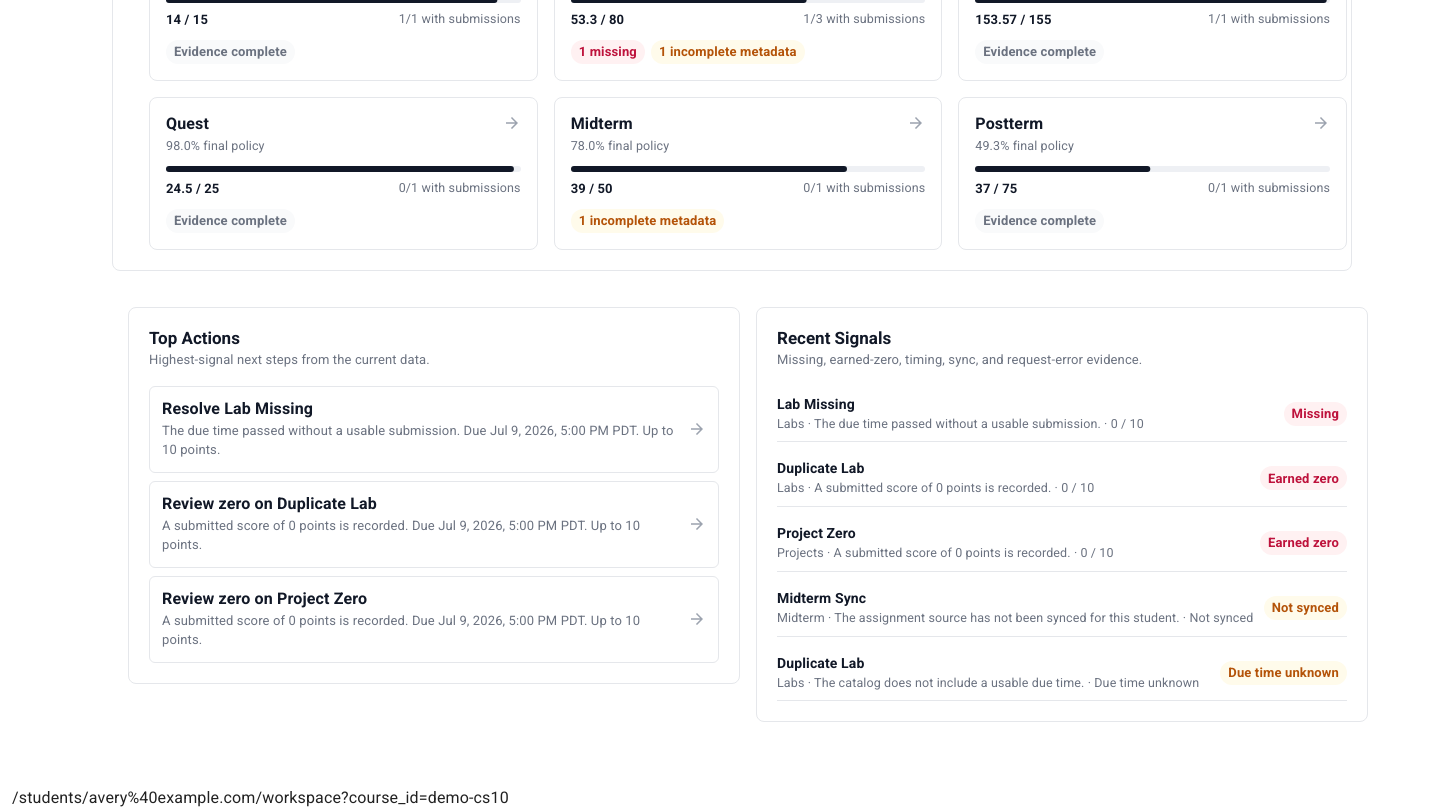
Test: student experience canonical contract surfaces › staff-view Workspace actions keep the reviewed student and course context
(page scrolled)
Click the link "Resolve Lab Missing" at (434, 429), box x1=149 y1=386 x2=719 y2=473
(page scrolled)
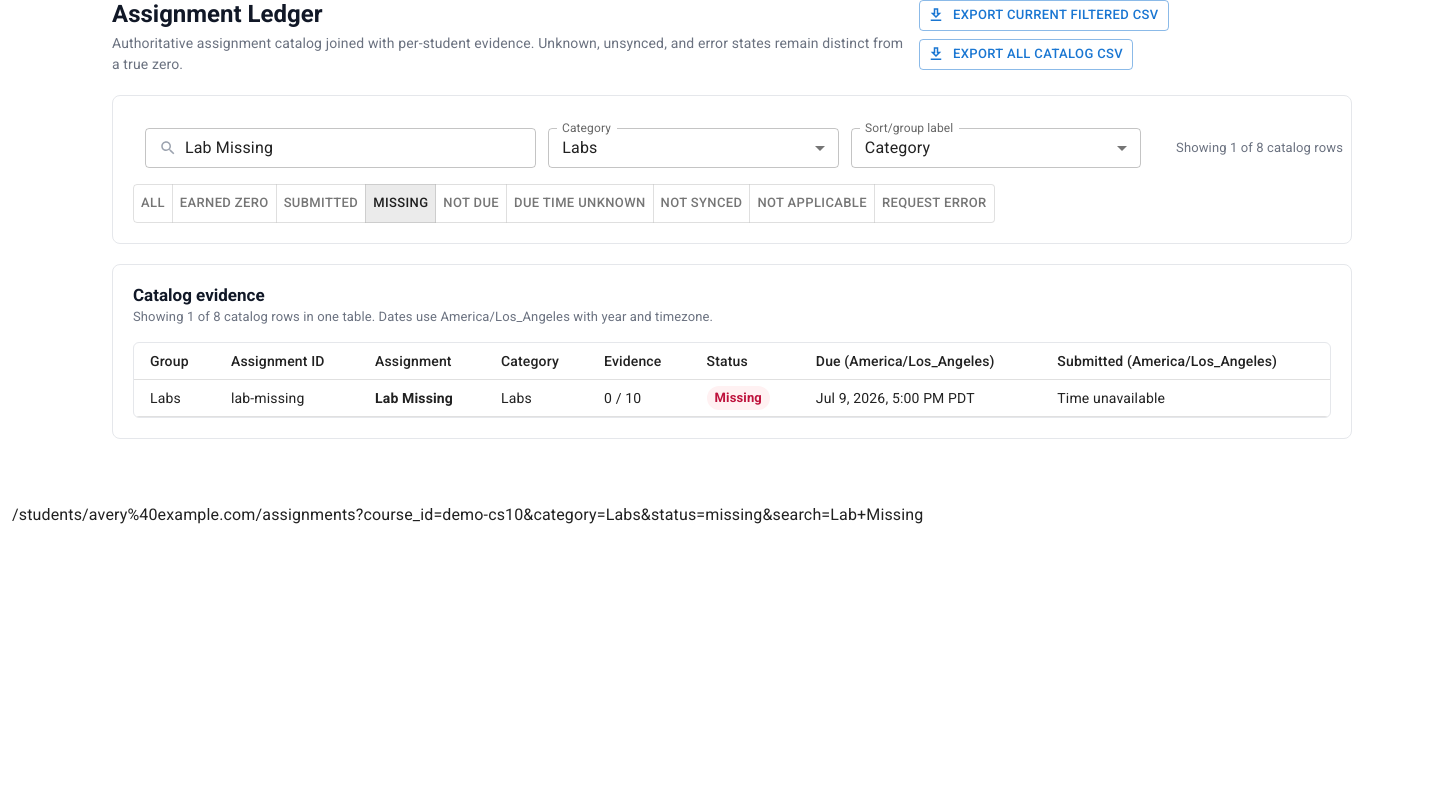
expect the heading "Assignment Ledger" is shown: met, box x1=112 y1=0 x2=322 y2=28
expect the text with test id "location" shows "/students/avery%40example.com/assignments": met, box x1=12 y1=505 x2=923 y2=524
expect the text with test id "location" shows "category=Labs": met, box x1=12 y1=505 x2=923 y2=524
